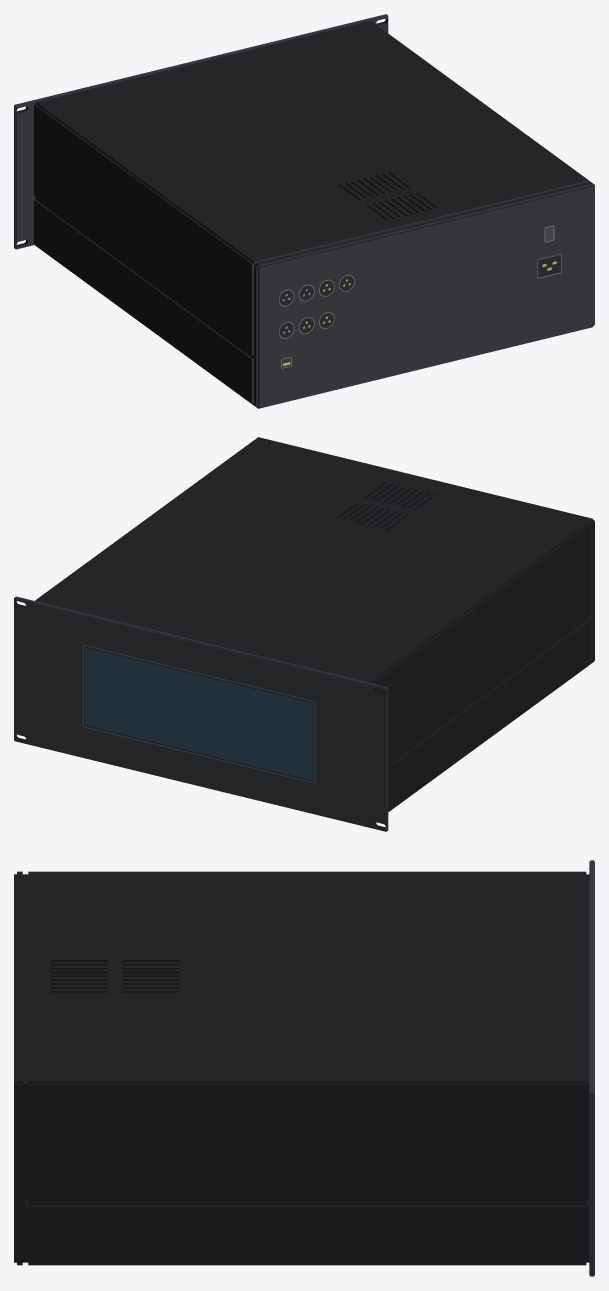
The model's file is omnia-11.glb.
The picture shows the model from 3 angles, top to bottom: view 1: azimuth 30°, elevation 25°; view 2: azimuth 150°, elevation 25°; view 3: azimuth 270°, elevation 25°; orthographic projection. The views are drawn at different scales.
Visible parts, largest first — view 1: omnia-11-body; view 2: omnia-11-body; view 3: omnia-11-body.
Part boxes in pixels (x1=…): omnia-11-body: x1=14, y1=14, x2=594, y2=408; omnia-11-body: x1=14, y1=437, x2=594, y2=831; omnia-11-body: x1=14, y1=860, x2=594, y2=1276.
Bounding box in the file's own units: 0.4826 × 0.1778 × 0.508.
Materials: 1 (1 with a texture image).
